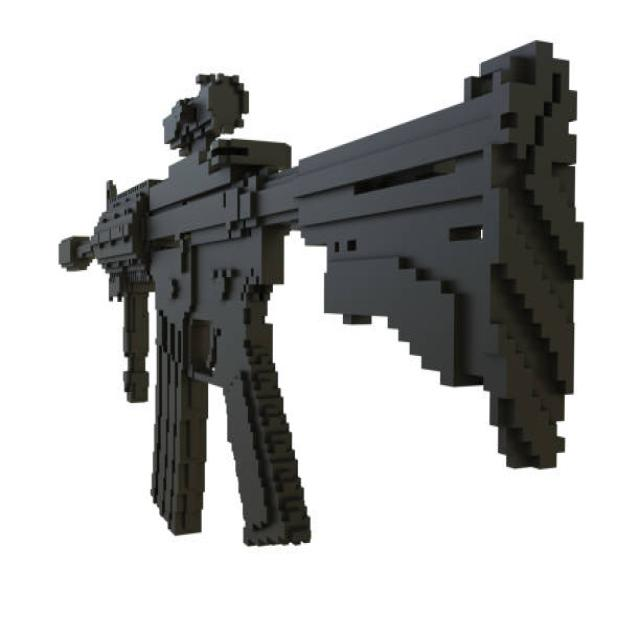rifle: (53, 32, 594, 560)
